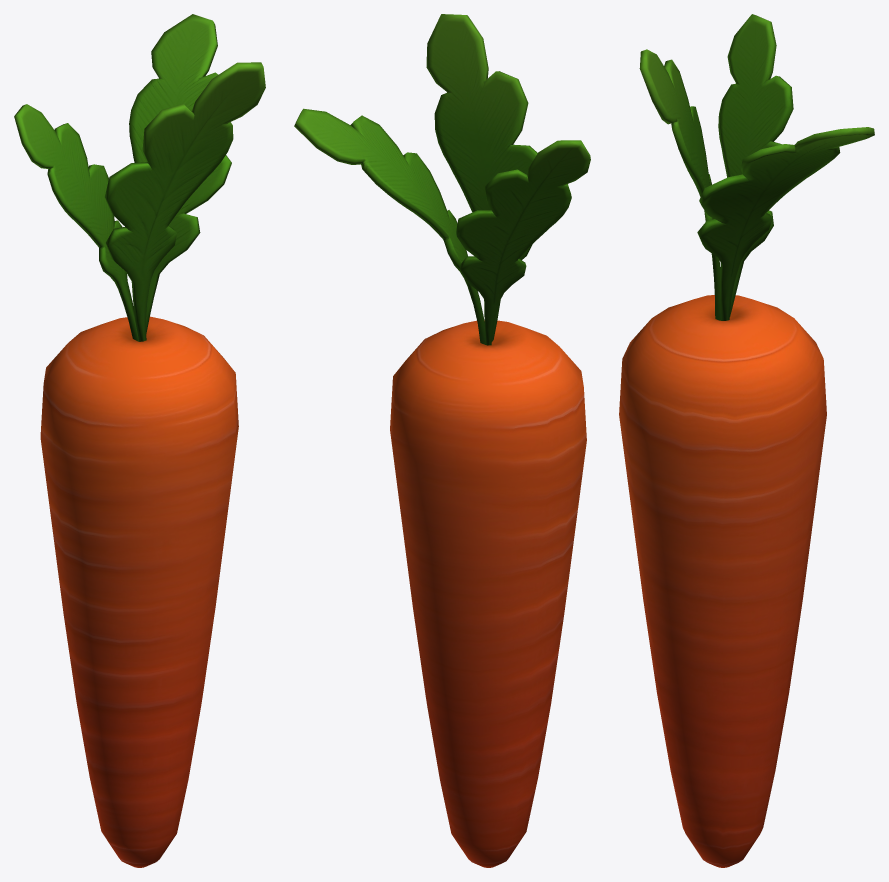
File: Carrot.fbx
3 views of the same model, side by side, from view 1: azimuth 30°, elevation 25°; view 2: azimuth 150°, elevation 25°; view 3: azimuth 270°, elevation 25° (orthographic). The views are drawn at different scales.
Parts seen in each view (by area): view 1: Carrot; view 2: Carrot; view 3: Carrot.
Part boxes in pixels (left/top/right/bottom): Carrot: left=14, top=14, right=265, bottom=867; Carrot: left=294, top=14, right=590, bottom=867; Carrot: left=619, top=14, right=874, bottom=867.
Bounding box in the file's own units: 15.95 × 51.08 × 13.99.
